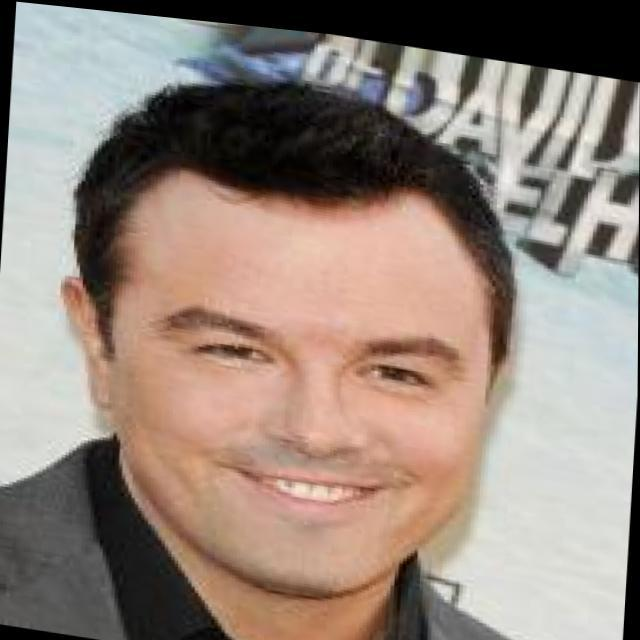Nonhelmet: (49, 69, 531, 611)
